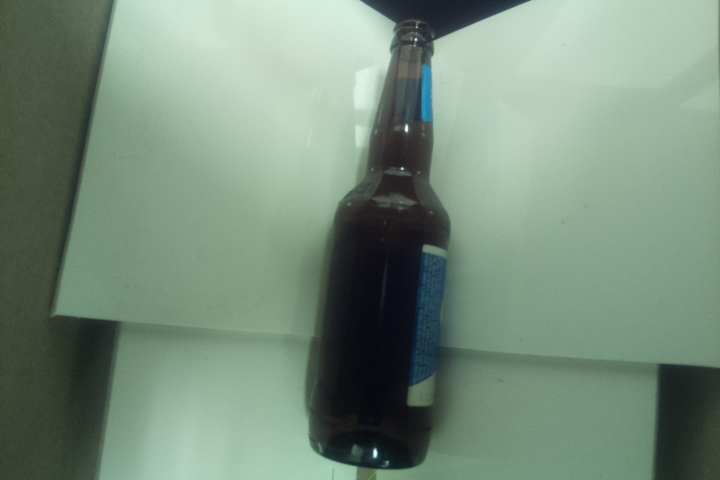makju: (304, 14, 456, 471)
